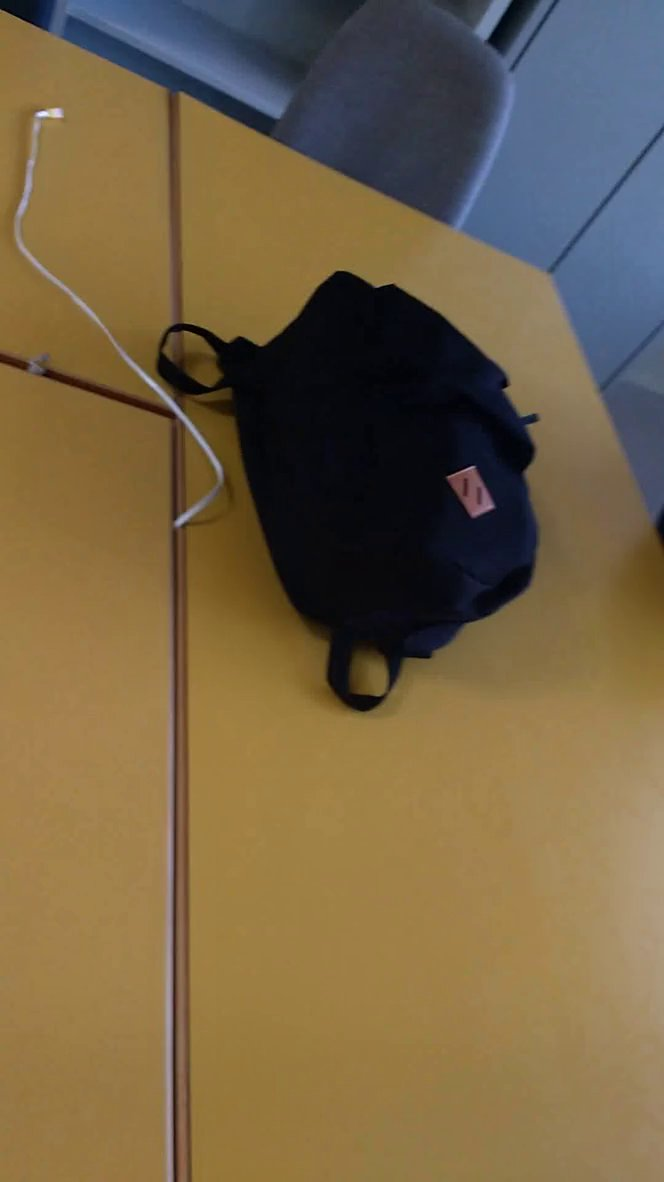bag: (148, 263, 564, 719)
chair: (270, 1, 523, 252)
